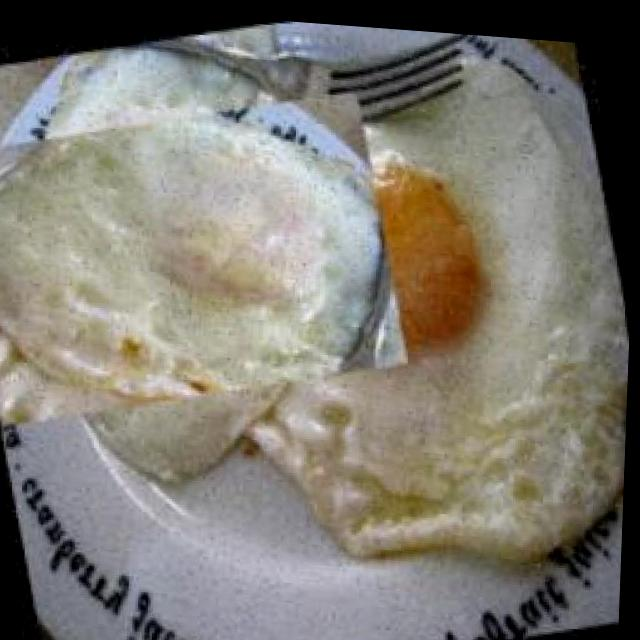fried_eggs: (228, 14, 640, 609), (0, 29, 391, 485)
